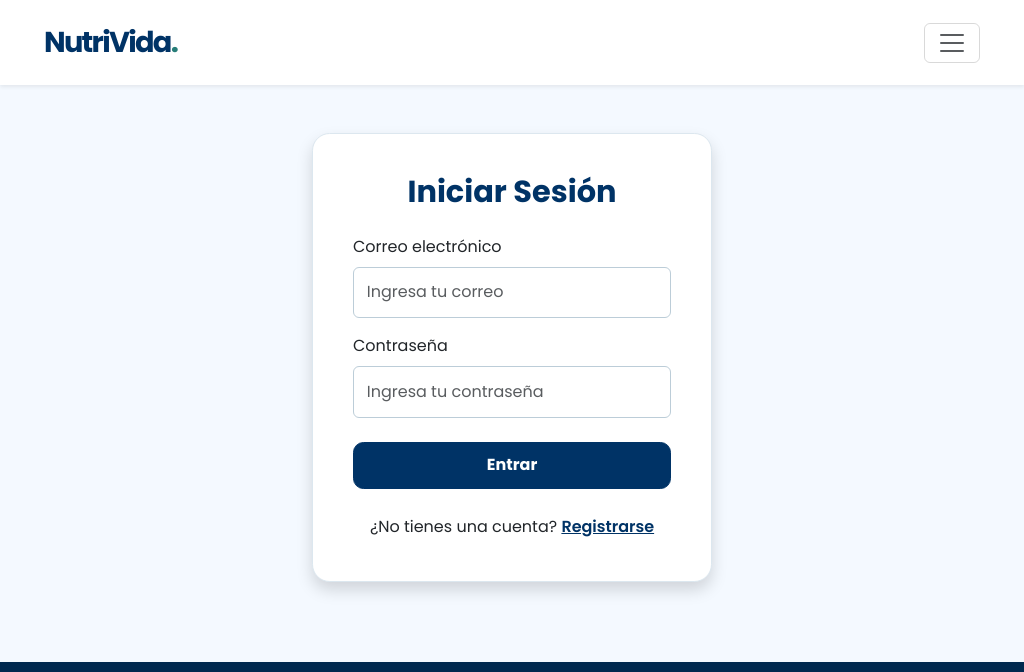
Agendamiento completo › regresa al servicio elegido después de iniciar sesión
expect the button "Entrar" is shown: met, box [353,442,671,489]
Step 1. Type "paciente@gmail.com" into the field labelled "Correo electrónico" → (512, 292), box [353,267,671,318]
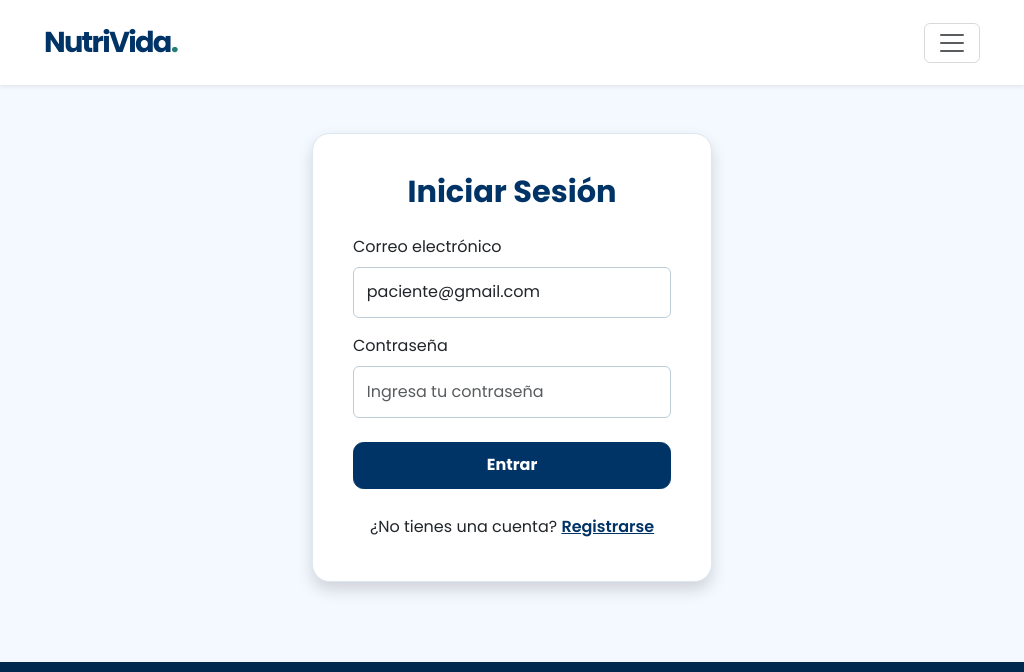
Step 2. Type "paciente123" into the password field labelled "Contraseña" → (512, 392), box [353,366,671,418]
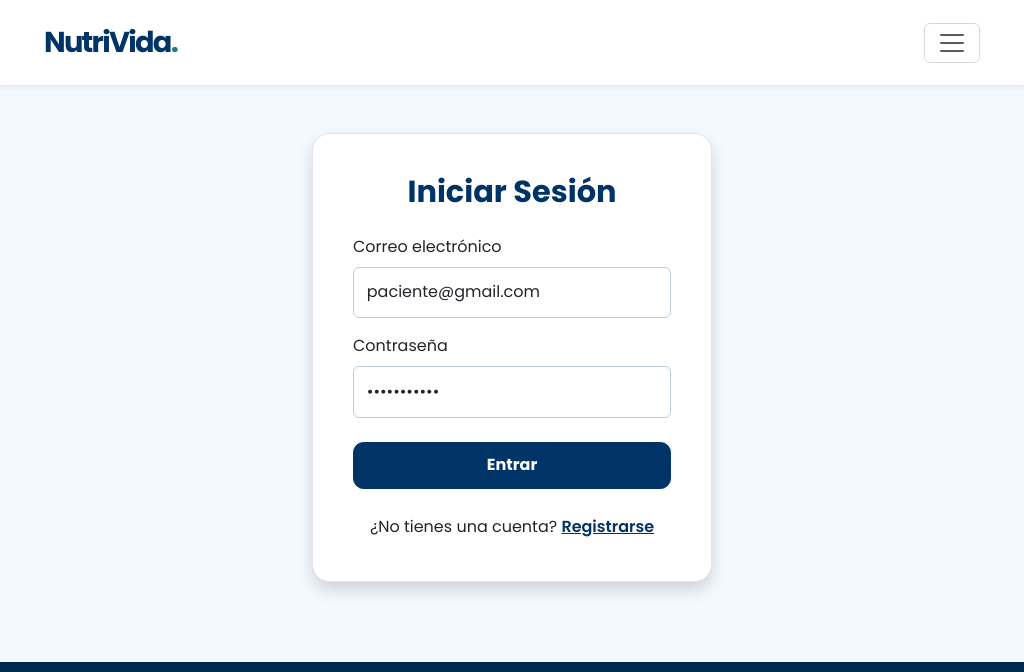
Step 3. Click the button "Entrar" → (512, 465), box [353,442,671,489]
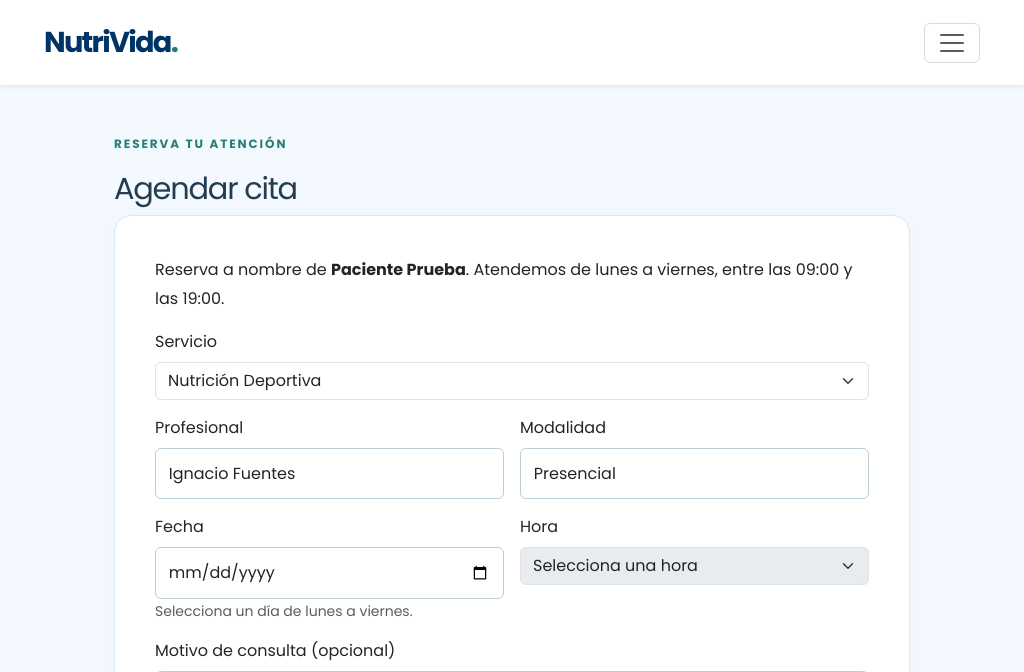
expect the heading "Agendar cita" is shown: met, box [114,167,297,210]
expect the dropdown labelled "Servicio" shows "Nutrición Deportiva": met, box [155,362,869,400]
